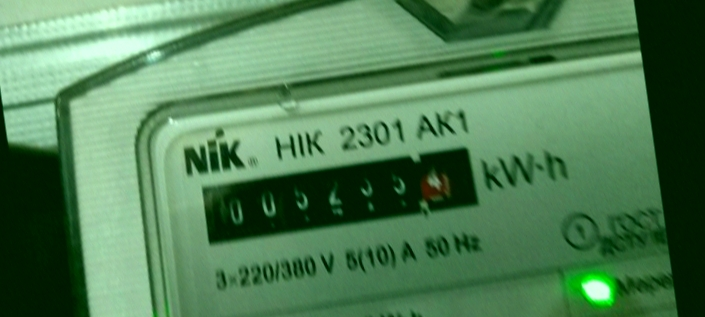0: (255, 185, 280, 221), (224, 194, 246, 227)
2: (320, 173, 346, 210)
3: (352, 166, 380, 202)
4: (420, 157, 447, 196)
5: (385, 161, 412, 199), (289, 179, 312, 214)
screen: (182, 131, 493, 259)
